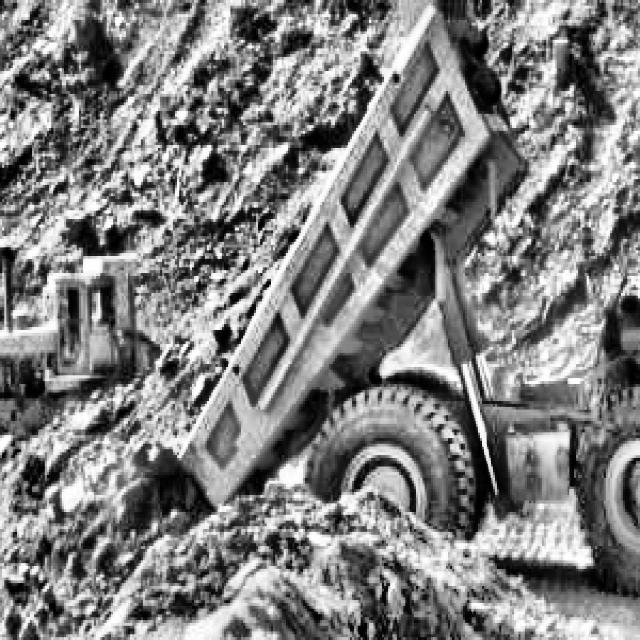buldozerpayloadergrader: (0, 238, 151, 523)
dump_truck: (196, 0, 640, 612)
